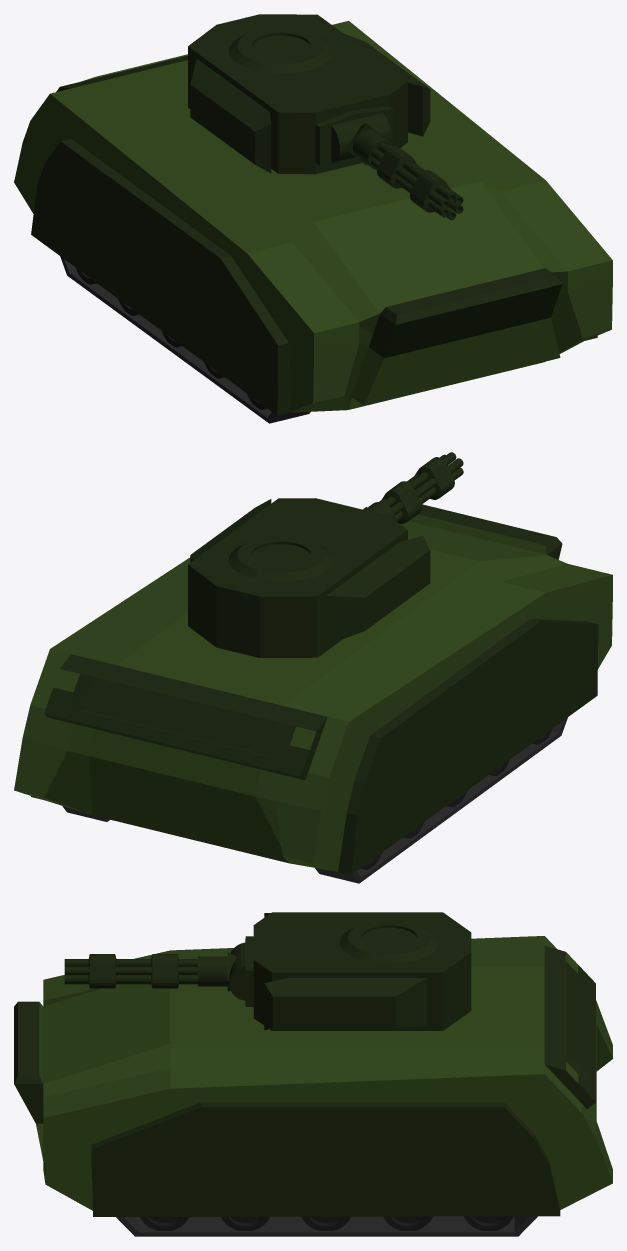
The model's file is tier2.obj.
3 renders of one model, top to bottom at view 1: azimuth 30°, elevation 25°; view 2: azimuth 150°, elevation 25°; view 3: azimuth 270°, elevation 25°, orthographic. The views are drawn at different scales.
Visible parts, largest first — view 1: Body14_Cube.005, Turret14_Cube.012, Main_Gun14_Cylinder.011, Tracks14_Cube.004, ST14_Cube.013, Road_Wheels14_Cube.006; view 2: Body14_Cube.005, Turret14_Cube.012, Main_Gun14_Cylinder.011, Tracks14_Cube.004, Road_Wheels14_Cube.006; view 3: Body14_Cube.005, Turret14_Cube.012, Tracks14_Cube.004, Main_Gun14_Cylinder.011, Road_Wheels14_Cube.006, ST14_Cube.013.
Part boxes in pixels (x1,y1,x2,y2): Body14_Cube.005: [14, 21, 612, 415]; Turret14_Cube.012: [188, 14, 430, 174]; Main_Gun14_Cylinder.011: [353, 129, 463, 220]; Tracks14_Cube.004: [60, 256, 310, 423]; ST14_Cube.013: [331, 113, 391, 165]; Road_Wheels14_Cube.006: [76, 268, 266, 409]; Body14_Cube.005: [14, 504, 612, 874]; Turret14_Cube.012: [188, 498, 430, 657]; Main_Gun14_Cylinder.011: [367, 452, 463, 523]; Tracks14_Cube.004: [62, 717, 567, 883]; Road_Wheels14_Cube.006: [360, 728, 552, 869]; Body14_Cube.005: [14, 936, 612, 1216]; Turret14_Cube.012: [244, 912, 471, 1030]; Tracks14_Cube.004: [116, 1216, 537, 1236]; Main_Gun14_Cylinder.011: [64, 954, 227, 988]; Road_Wheels14_Cube.006: [140, 1216, 513, 1230]; ST14_Cube.013: [227, 942, 245, 1000].
Size of the model in its own units: 3.86 by 2.81 by 6.59.
